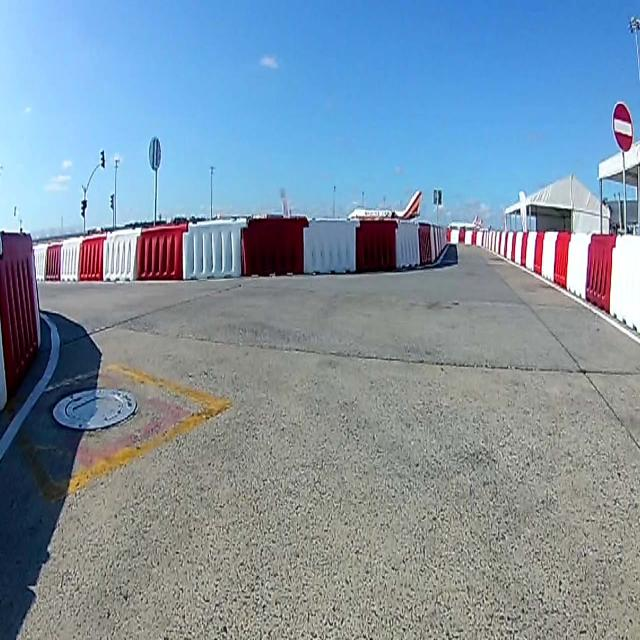girisyok: (613, 102, 633, 153)
